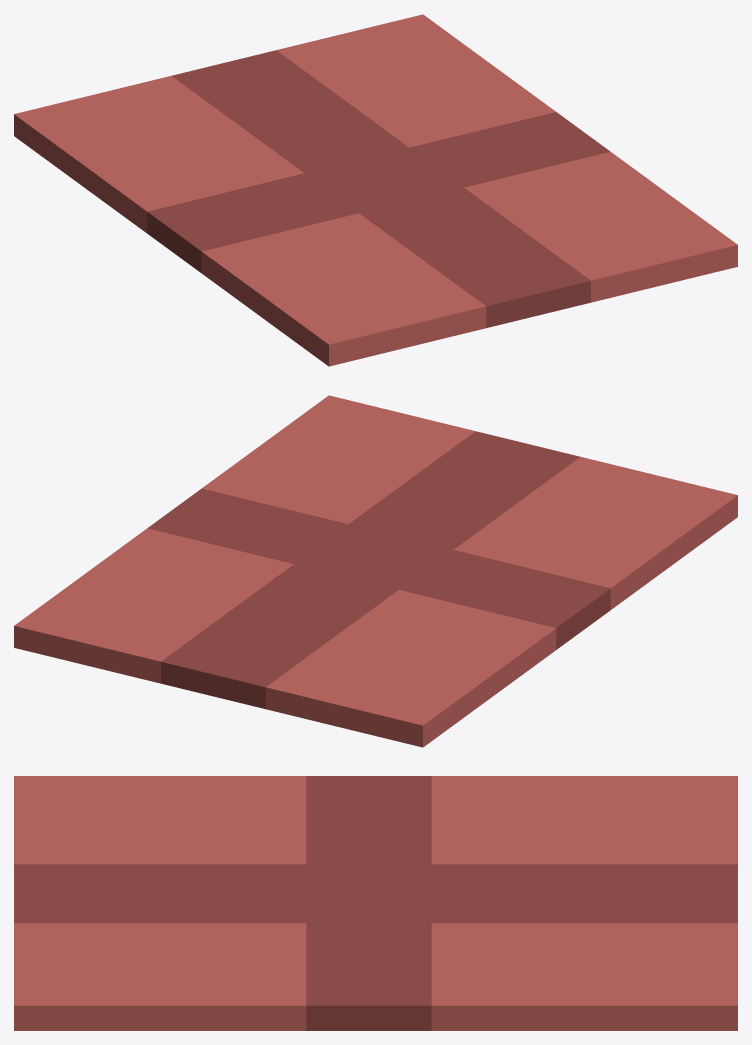
The model's file is alfombra_grande_01.glb.
3 renders of one model, top to bottom at view 1: azimuth 30°, elevation 25°; view 2: azimuth 150°, elevation 25°; view 3: azimuth 270°, elevation 25°, orthographic. The views are drawn at different scales.
Parts seen in each view (by area): view 1: alfombra_grande; view 2: alfombra_grande; view 3: alfombra_grande.
Part boxes in pixels (left/top/right/bottom): alfombra_grande: left=14, top=14, right=737, bottom=366; alfombra_grande: left=14, top=395, right=737, bottom=747; alfombra_grande: left=14, top=776, right=737, bottom=1030.
Size of the model in its own units: 3 by 0.1538 by 4.
